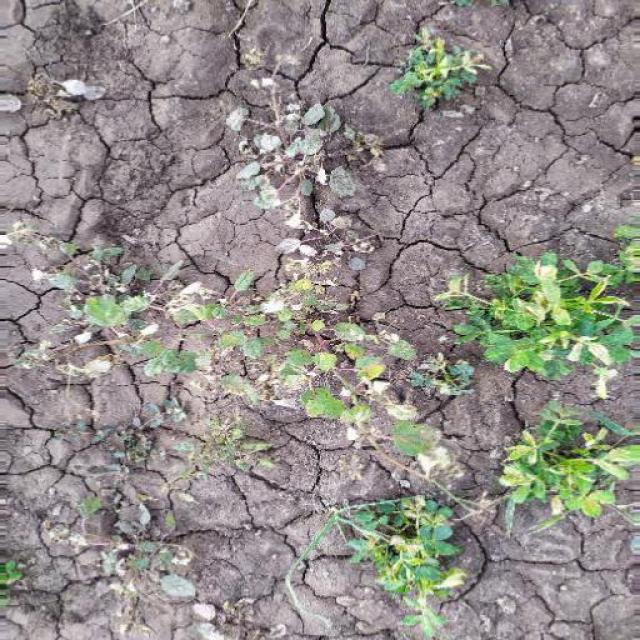weed: (47, 245, 628, 617), (210, 49, 484, 228)
